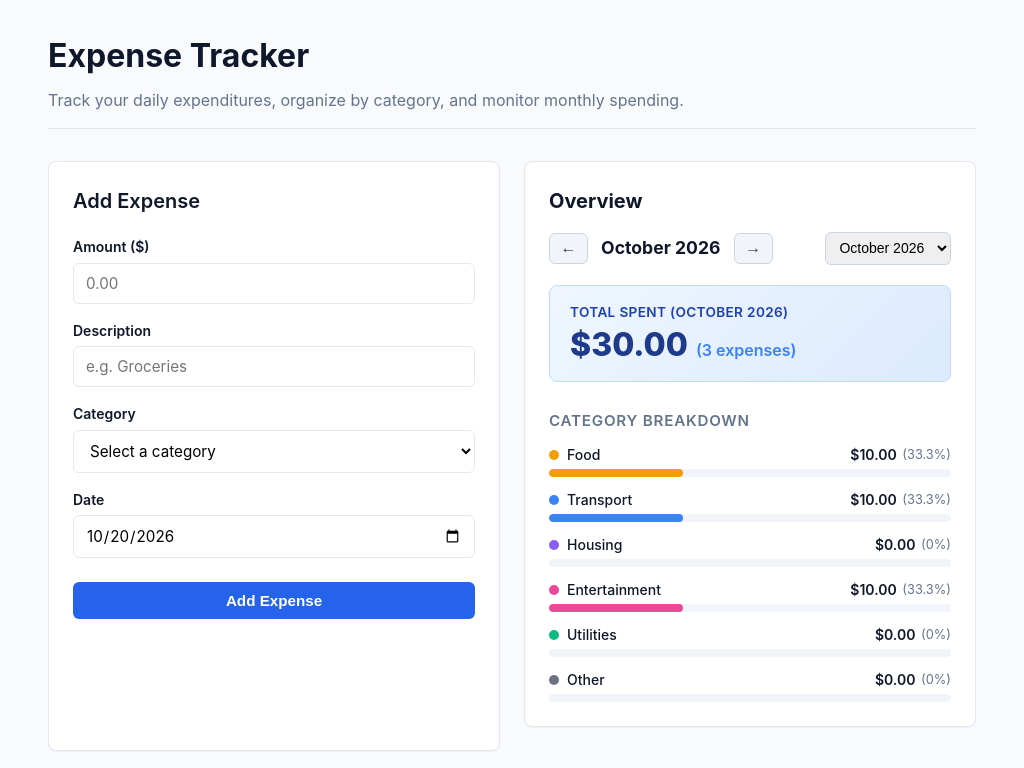
QA Adversarial Test Suite - Issue #3 (UI, Expense Management & LocalStorage Persistence) › 4. Monthly Dashboard Navigation & Boundary Conditions › calculates category breakdown percentages and renders progressbars accurately without NaN or rounding errors
Expected: the text with test id "monthly-total-value" reads "$30.00", [570, 325, 688, 364]
Note: Month with 0 spend shows $0.00 and no NaN
Click the button named "previous month" at (568, 248), box [549, 233, 588, 264]
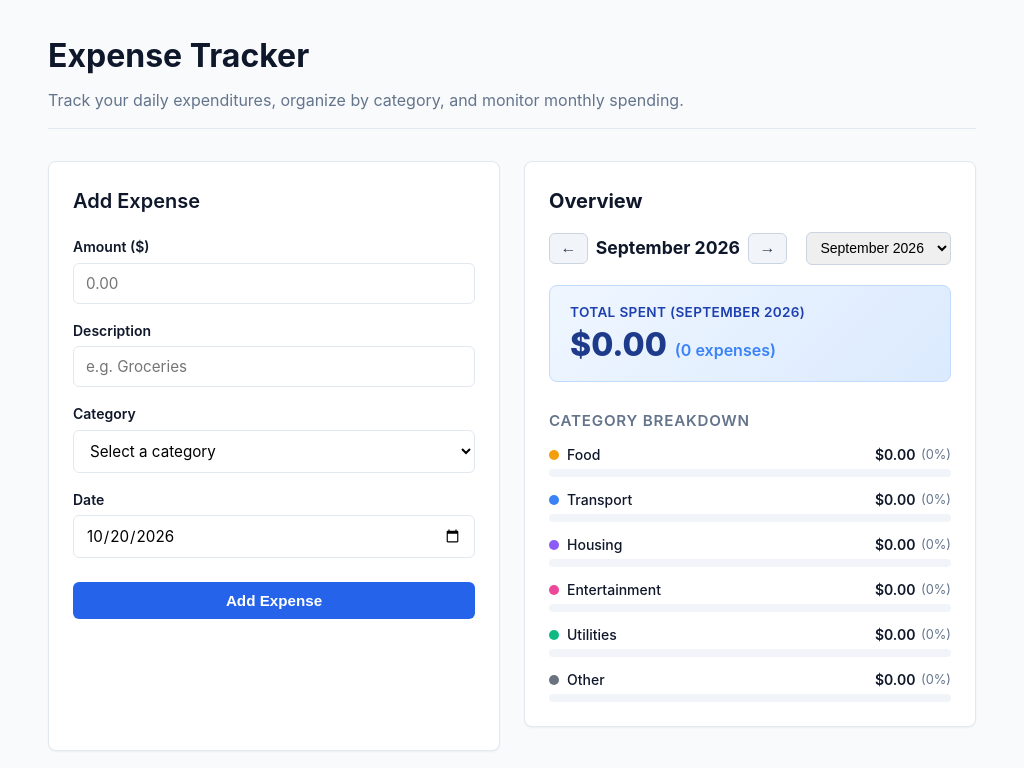
Expected: the text with test id "monthly-total-value" reads "$0.00", [570, 325, 667, 364]
